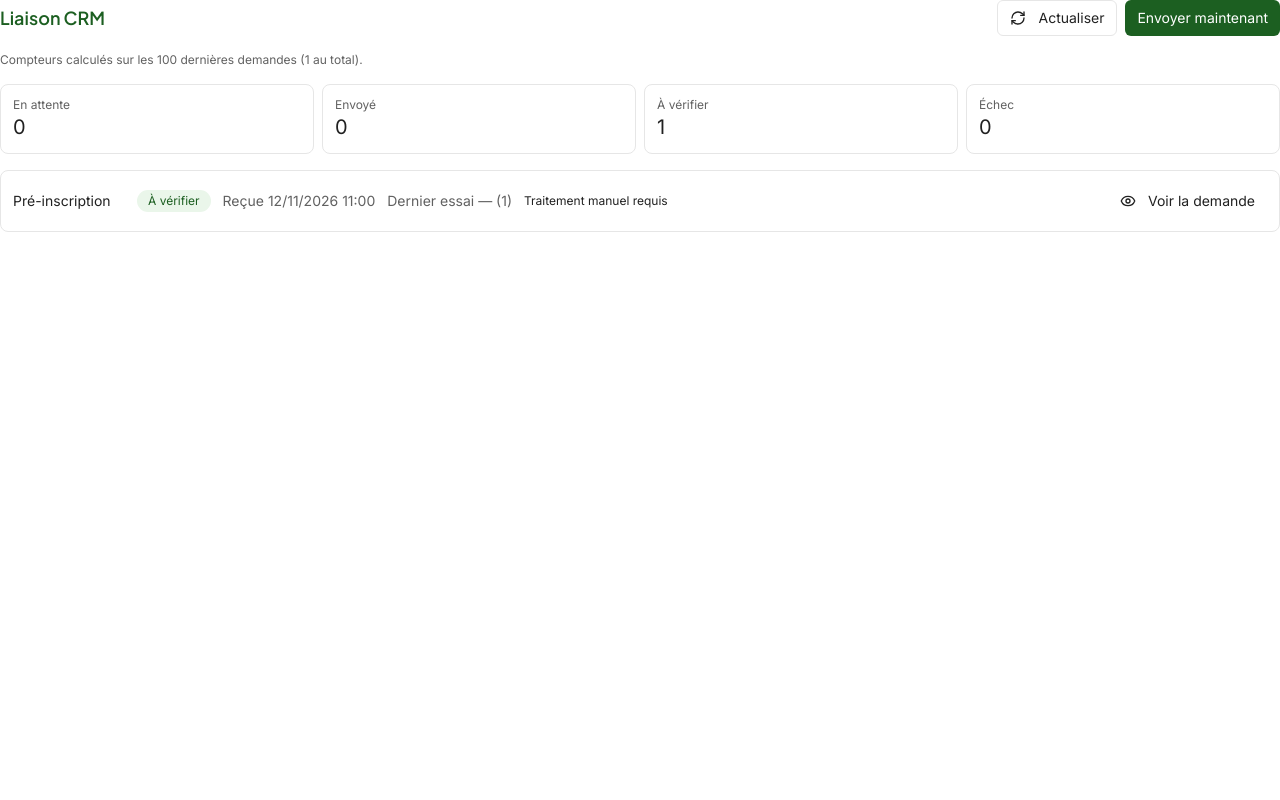
Test: CrmOutboxManager › shows a dialog load error with Réessayer
The width and height of the screenshot is (1280, 800).
Click the button "Voir la demande". click: {"x": 1188, "y": 201}
box: [1108, 183, 1267, 219]
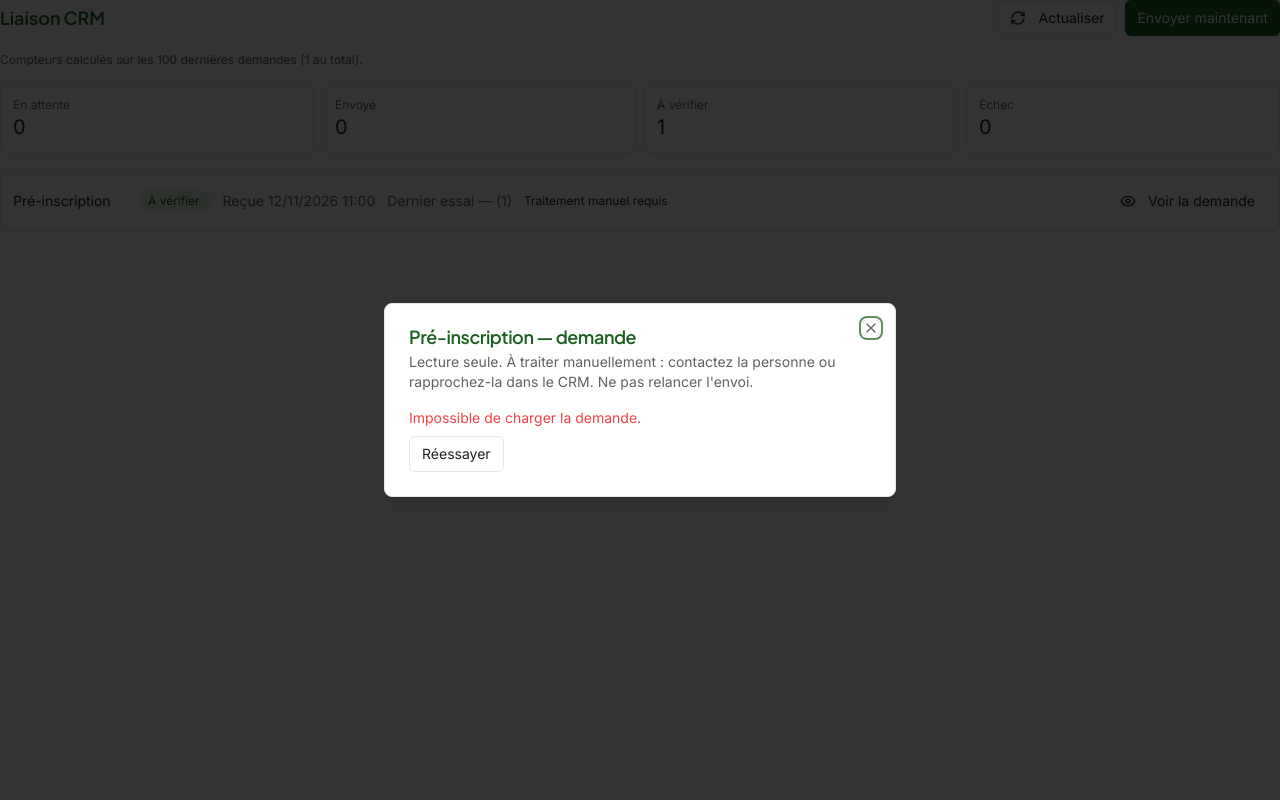
expect the text "Impossible de charger la demande." is shown: met, box [409, 409, 641, 426]
Click the button "Réessayer". click: {"x": 456, "y": 454}
box: [409, 436, 504, 472]
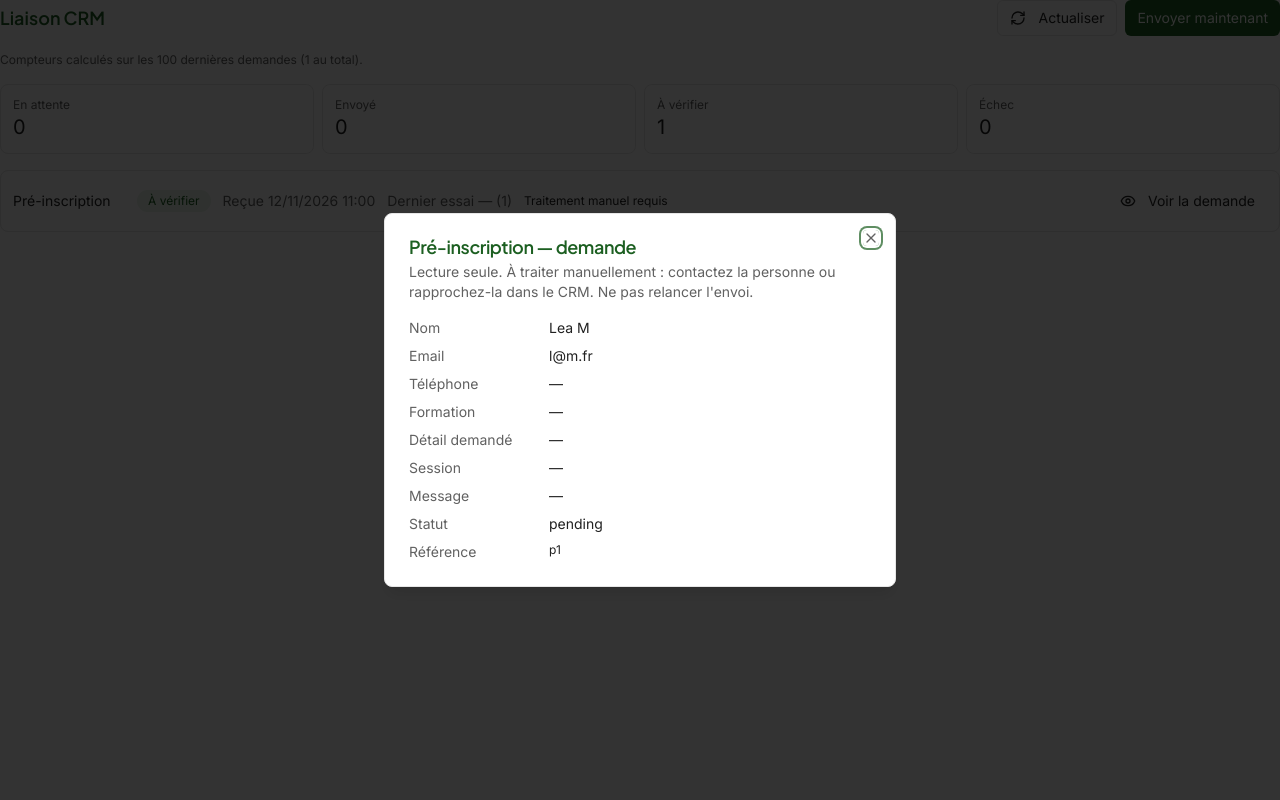
expect the text "Lea M" is shown: met, box [549, 319, 590, 336]
